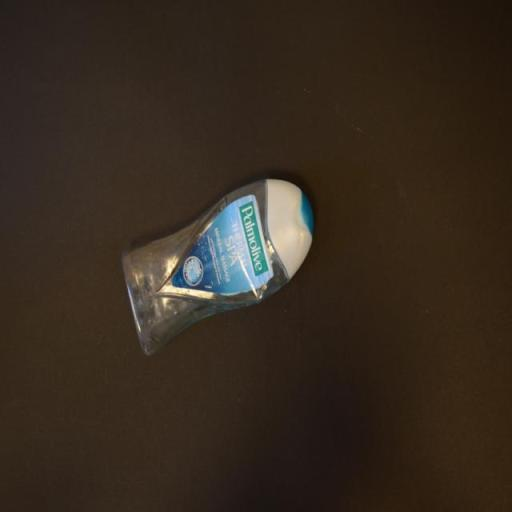plastic: (119, 175, 315, 351)
